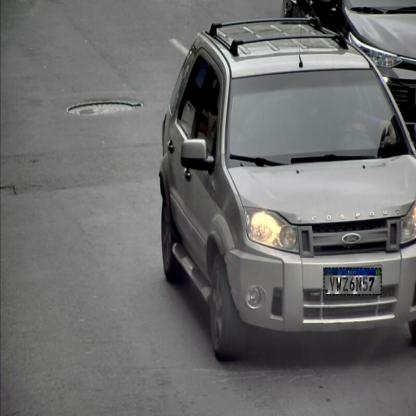PlacaM: (324, 268, 382, 295)
